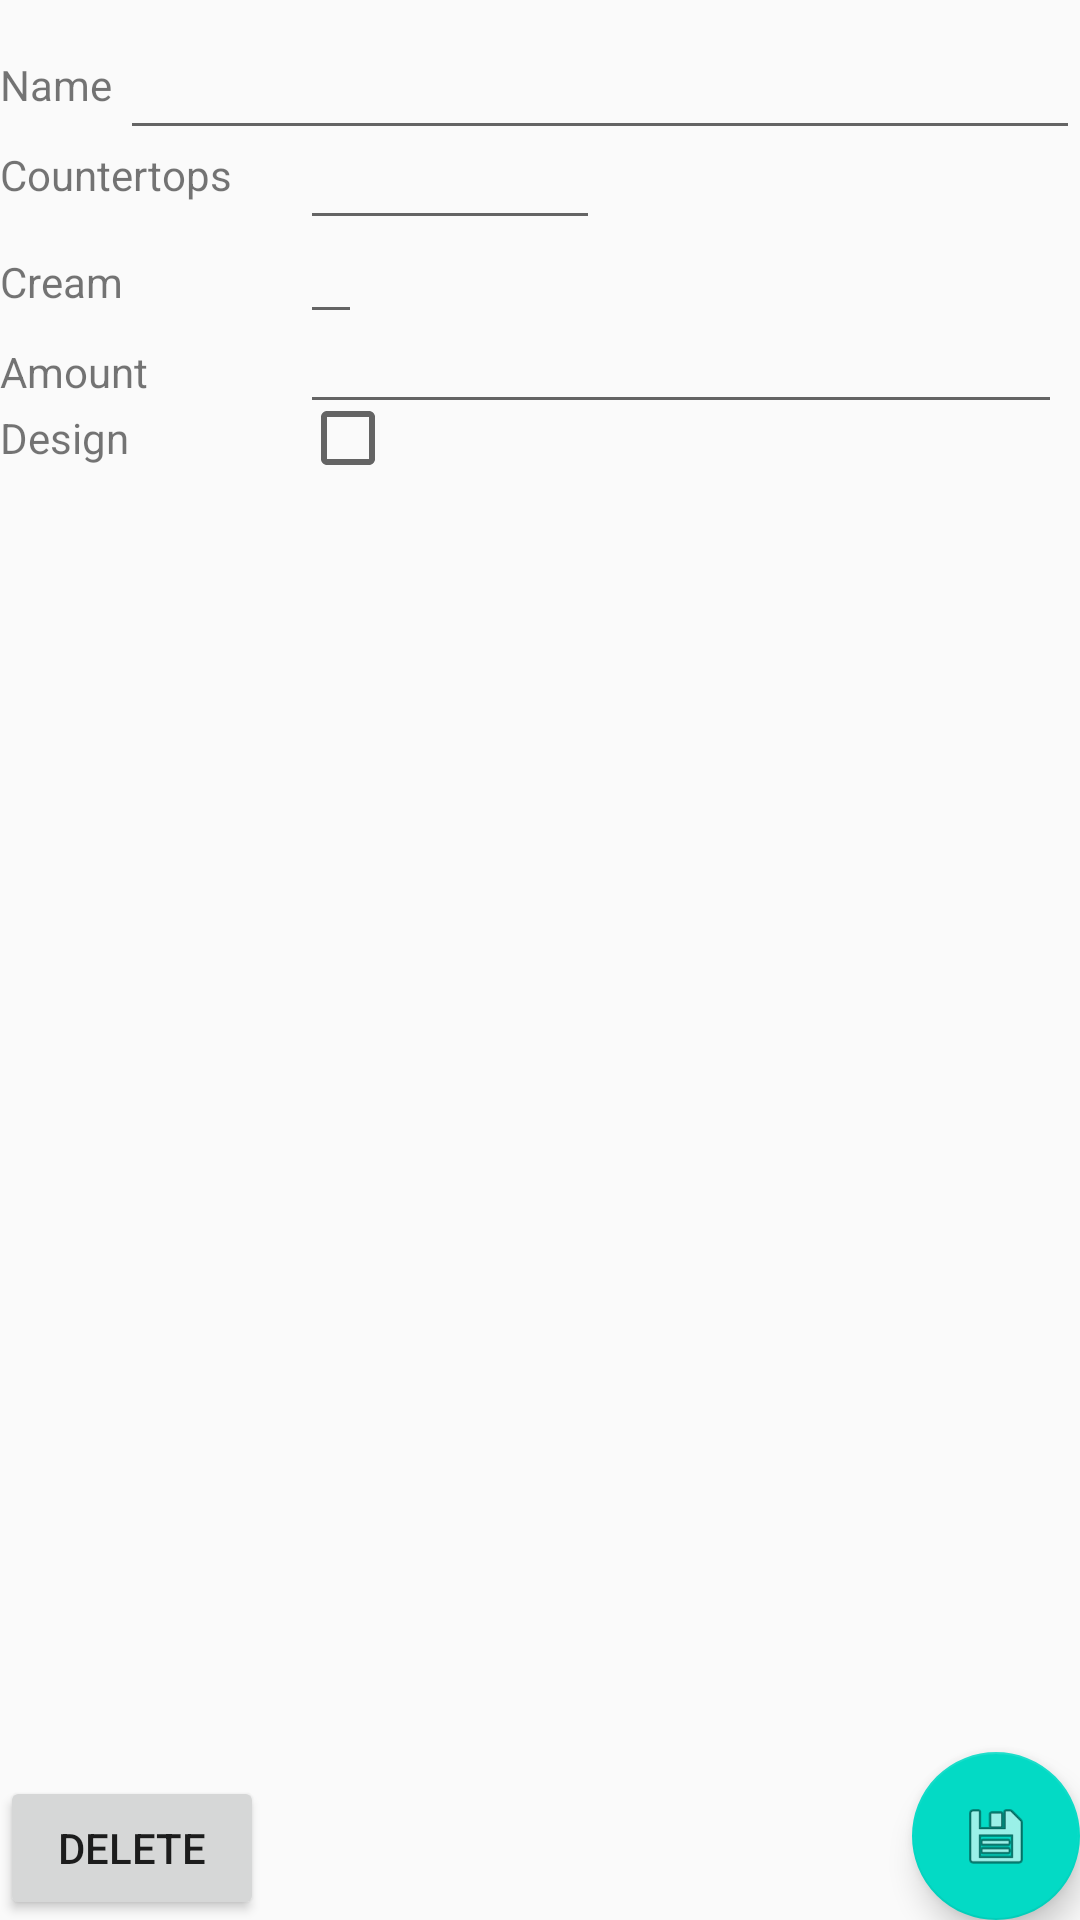

Icons on this 1080w x 1920h Android screen, each with the point to tap as (x,y):
save: (996,1836)
